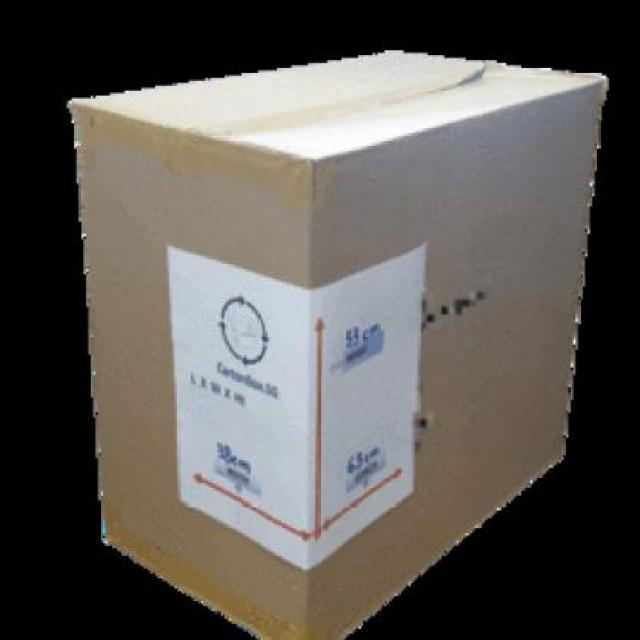box: (54, 50, 628, 640)
